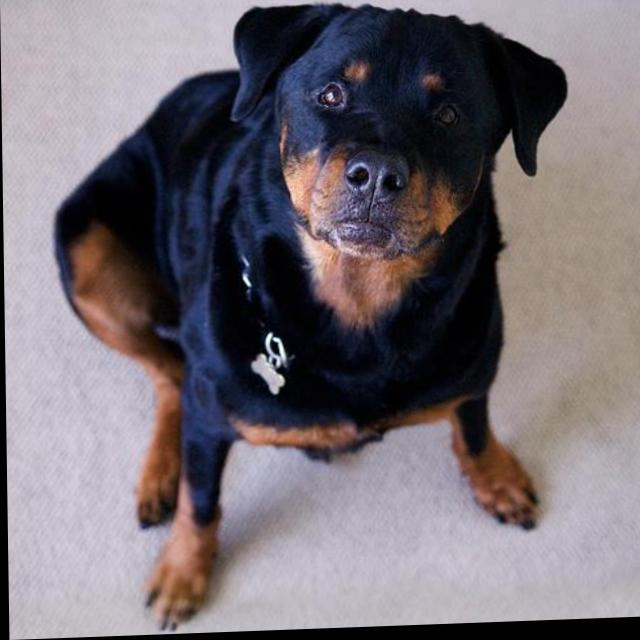rottweiler: (50, 1, 575, 637)
